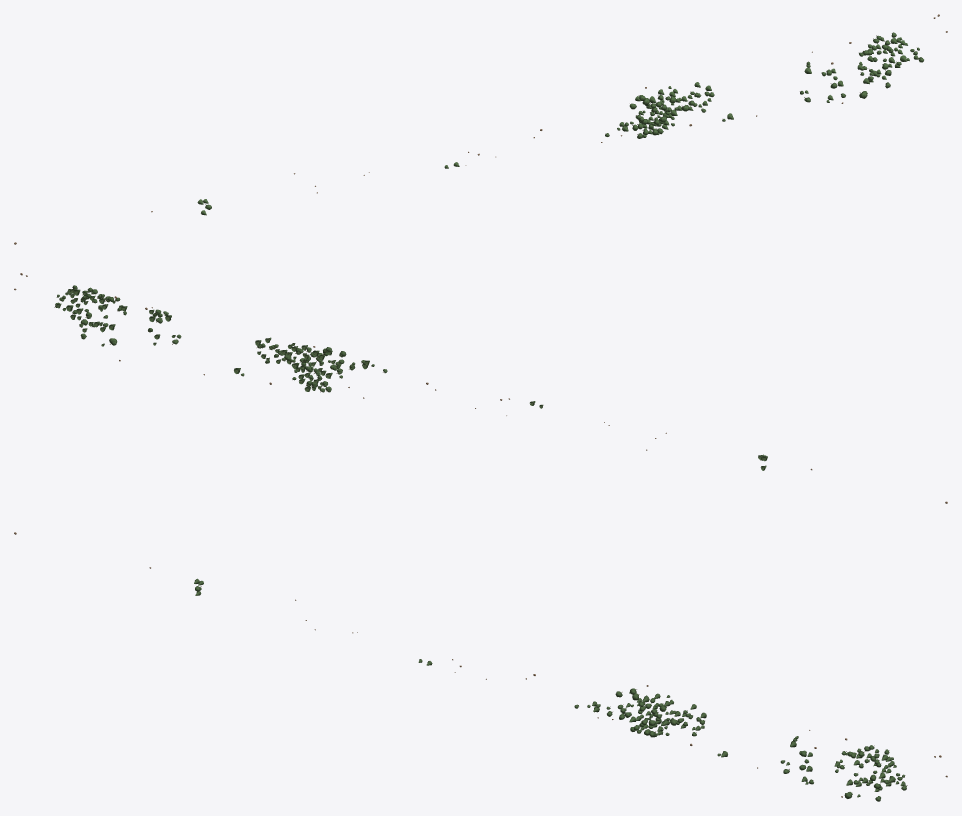
File: green_island_003_vegetation.obj
The picture shows the model from 3 angles, top to bottom: view 1: azimuth 30°, elevation 25°; view 2: azimuth 150°, elevation 25°; view 3: azimuth 330°, elevation 25°; orthographic projection.
Parts seen in each view (by area): view 1: vegetation; view 2: vegetation; view 3: vegetation.
Boxes of the visible parts, <box> form: vegetation: <box>14,14,947,244</box>; vegetation: <box>14,273,947,503</box>; vegetation: <box>14,532,947,801</box>.
Size of the model in its own units: 1048 by 69.89 by 39.01.
5 materials, 5 textured.
